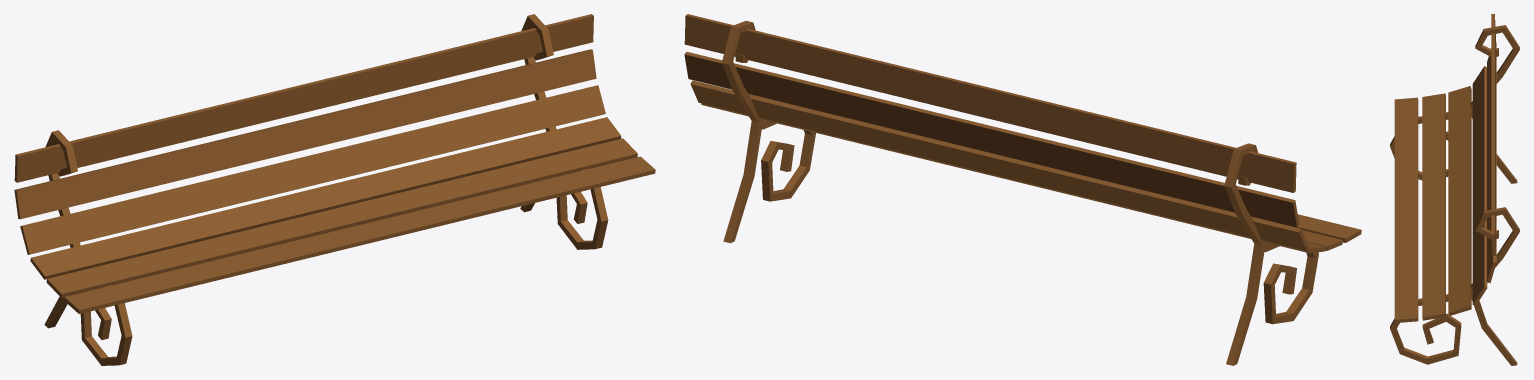
File: bench.glb
3 renders of one model, left to right at view 1: azimuth 30°, elevation 25°; view 2: azimuth 150°, elevation 25°; view 3: azimuth 270°, elevation 25°, orthographic. The views are drawn at different scales.
Parts seen in each view (by area): view 1: stklib_bench_a_main; view 2: stklib_bench_a_main; view 3: stklib_bench_a_main.
Boxes of the visible parts, left/top/right/bottom form: stklib_bench_a_main: left=14, top=14, right=655, bottom=365; stklib_bench_a_main: left=684, top=14, right=1361, bottom=365; stklib_bench_a_main: left=1390, top=14, right=1519, bottom=365.
Bounding box in the file's own units: 5.47 × 1.81 × 1.36.
